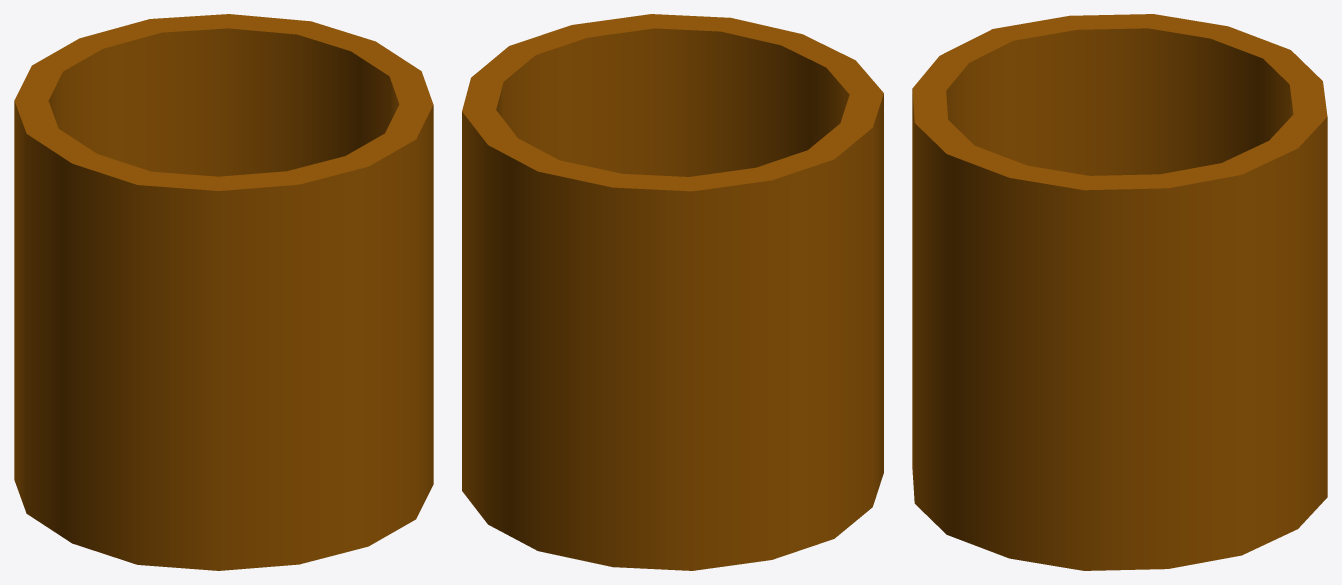
The model's file is SM_Cup_01.fbx.
3 renders of one model, left to right at view 1: azimuth 30°, elevation 25°; view 2: azimuth 150°, elevation 25°; view 3: azimuth 270°, elevation 25°, orthographic.
Visible parts, largest first — view 1: SM_Cup_01; view 2: SM_Cup_01; view 3: SM_Cup_01.
Part boxes in pixels (x1,y1,x2,y2): SM_Cup_01: (14,14,433,570); SM_Cup_01: (462,14,883,570); SM_Cup_01: (912,14,1327,570).
Bounding box in the file's own units: 13.49 × 13.59 × 13.43.
